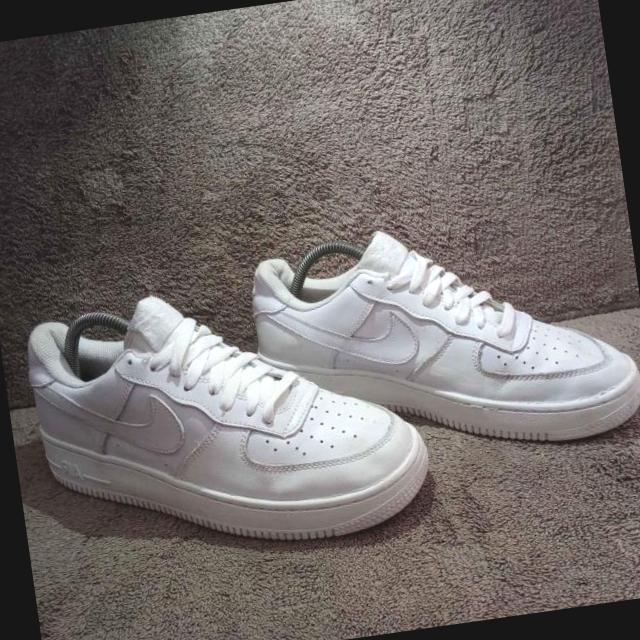nike_original_airforce: (14, 256, 436, 578), (244, 197, 640, 486)
